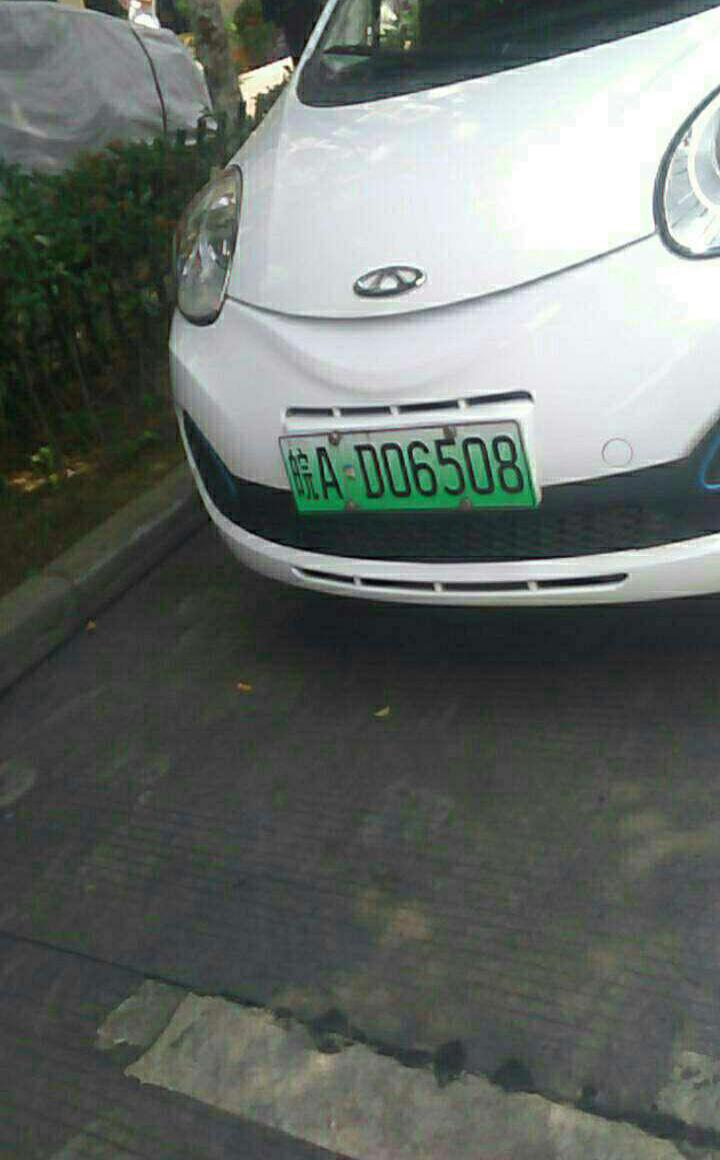car_id: (278, 420, 533, 512)
